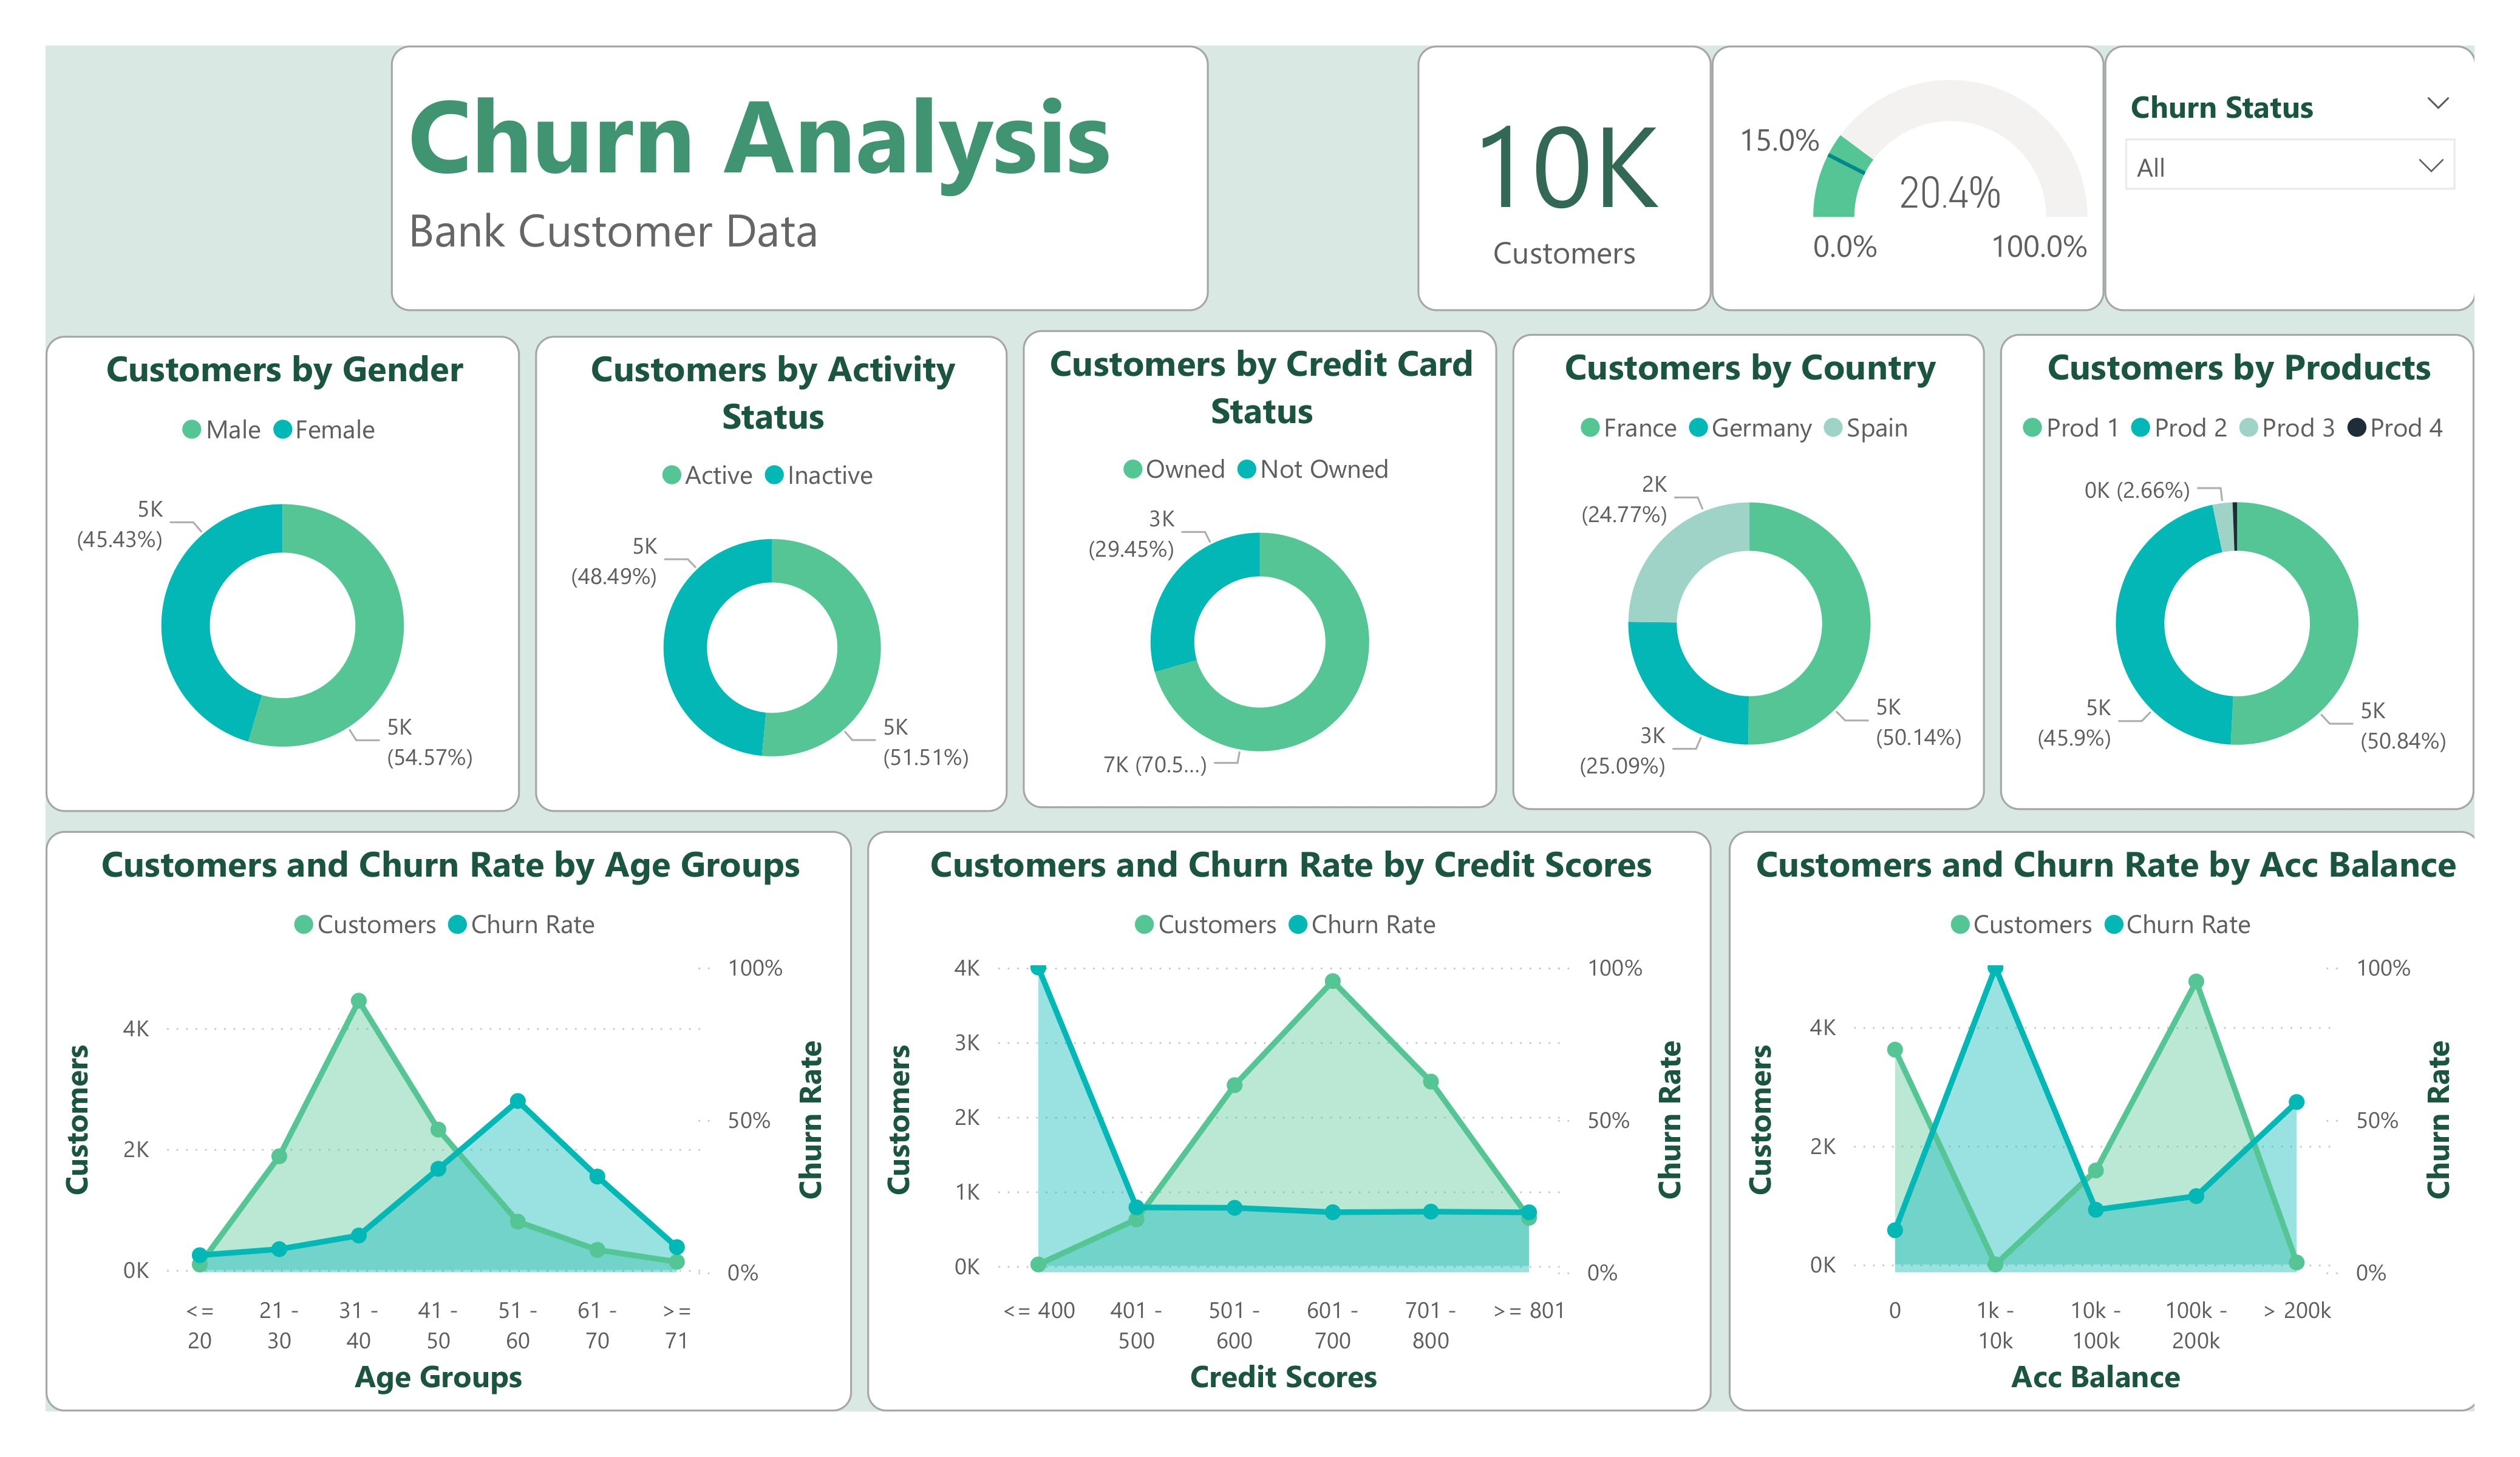

This screenshot's page, from the dashboard's own definition file:
{"tool":"powerbi","page":{"name":"Page 1","canvas":[1280,720],"ordinal":0},"visuals":[{"type":"donutChart","fields":{"Category":["Customer Data.Gender"],"Y":["Customer Data.Customers"]},"box":[0,153,249.9,251.2],"z":1000},{"type":"donutChart","fields":{"Y":["Customer Data.Customers"],"Category":["Customer Data.Active"]},"box":[257.5,153,249.9,251.2],"z":2000},{"type":"donutChart","fields":{"Y":["Customer Data.Customers"],"Category":["Customer Data.Credit Card Status"]},"box":[515.1,150.4,249.9,251.2],"z":3000},{"type":"donutChart","fields":{"Y":["Customer Data.Customers"],"Category":["Customer Data.Country"]},"box":[772.6,151.7,249.9,251.2],"z":4000},{"type":"donutChart","fields":{"Y":["Customer Data.Customers"],"Category":["Customer Data.Products"]},"box":[1030.1,151.7,249.9,251.2],"z":5000},{"type":"areaChart","fields":{"Category":["Age Groups.Age Groups"],"Y":["Customer Data.Customers"],"Y2":["Customer Data.Churn Rate"]},"box":[0,414.3,424.5,306],"z":6000},{"type":"areaChart","fields":{"Category":["Credit Scores Groups.Credit Scores"],"Y":["Customer Data.Customers"],"Y2":["Customer Data.Churn Rate"]},"box":[433.5,414.3,444.9,306],"z":7000},{"type":"areaChart","fields":{"Category":["Acc Balance Groups.Acc Balance"],"Y":["Customer Data.Customers"],"Y2":["Customer Data.Churn Rate"]},"box":[887.3,414.3,395.2,306],"z":8000},{"type":"slicer","fields":{"Values":["Customer Data.Churn Status"]},"box":[1084.9,0,196.3,140.2],"z":9000},{"type":"card","fields":{"Values":["Customer Data.Customers"]},"box":[722.9,0,155.5,140.2],"z":10000},{"type":"textbox","box":[182.3,0,430.9,140.2],"z":11000},{"type":"gauge","fields":{"Y":["Customer Data.Churn Rate"],"TargetValue":["Max(Customer Data.Target Churn Rate)"]},"box":[878.4,0,206.5,140.2],"z":12000}]}

Visuals, with their boxes in screenshot pixels (x1, y1, x2, y2):
donutChart - Customer Data.Gender x Customer Data.Customers: bbox(59, 378, 527, 849)
donutChart - Customer Data.Customers x Customer Data.Active: bbox(541, 378, 1009, 849)
donutChart - Customer Data.Customers x Customer Data.Credit Card Status: bbox(1024, 373, 1492, 844)
donutChart - Customer Data.Customers x Customer Data.Country: bbox(1506, 376, 1974, 846)
donutChart - Customer Data.Customers x Customer Data.Products: bbox(1988, 376, 2456, 846)
areaChart - Age Groups.Age Groups x Customer Data.Customers: bbox(59, 868, 854, 1441)
areaChart - Credit Scores Groups.Credit Scores x Customer Data.Customers: bbox(871, 868, 1704, 1441)
areaChart - Acc Balance Groups.Acc Balance x Customer Data.Customers: bbox(1721, 868, 2461, 1441)
slicer - Customer Data.Churn Status: bbox(2091, 92, 2459, 355)
card - Customer Data.Customers: bbox(1413, 92, 1704, 355)
textbox: bbox(400, 92, 1207, 355)
gauge - Customer Data.Churn Rate x Max(Customer Data.Target Churn Rate): bbox(1704, 92, 2091, 355)
